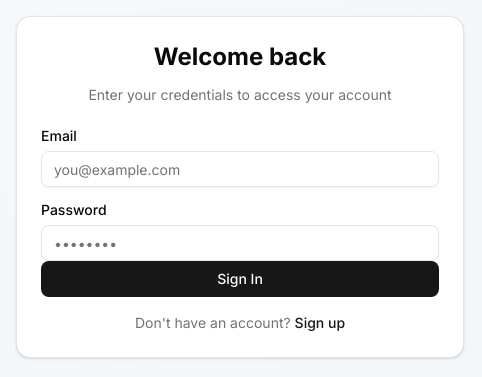
Test: Login Page Integration › shows loading state during submission
The image size is (482, 377).
Type "test@example.com" into the field labelled "Email" at (240, 169), box [41,151,439,187]
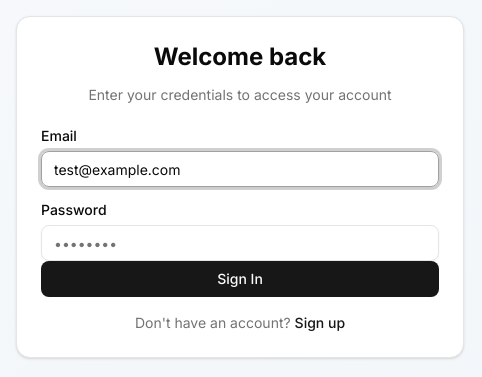
Type "password123" into the password field labelled "Password" at (240, 243), box [41,225,439,261]
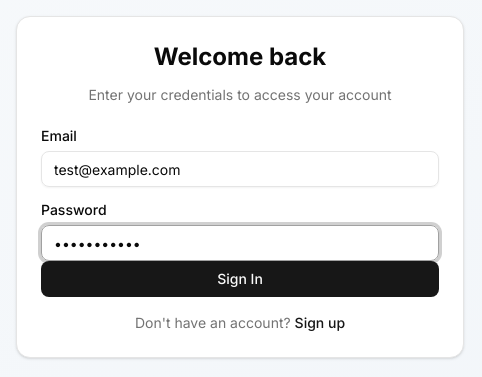
Click the button "Sign In" at (240, 279), box [41,261,439,297]
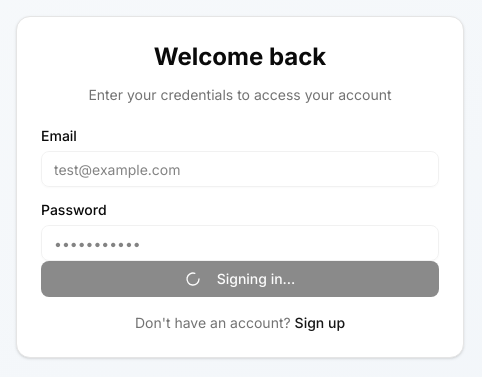
Expected: the button "Signing in..." is shown, [41,261,439,297]
